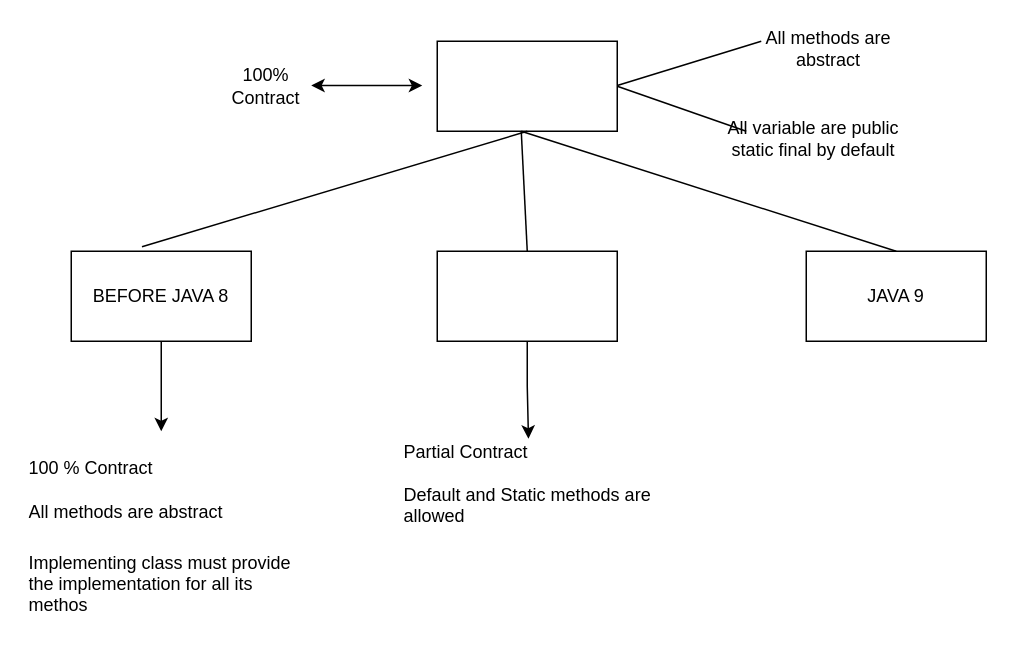
This 1013x656 diagram has some shape labels left out. The box of each missing label's shape, as (x1, y1, x2, y2) in pixels:
INTERFACE ( Blue Print ): (436, 40, 617, 131)
JAVA 8: (436, 250, 617, 341)
